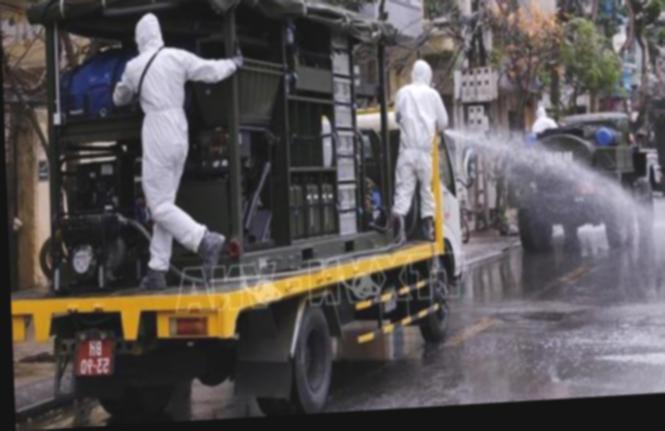License_Plate: (76, 336, 116, 376)
